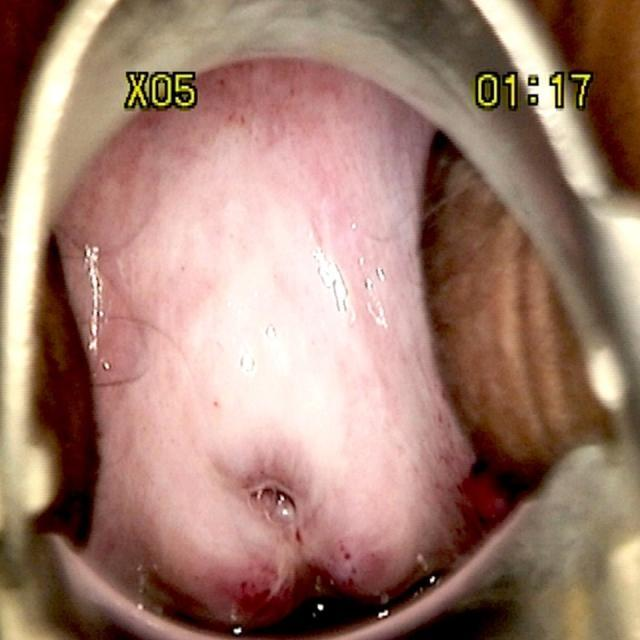cervical_lesion: (136, 206, 440, 633)
